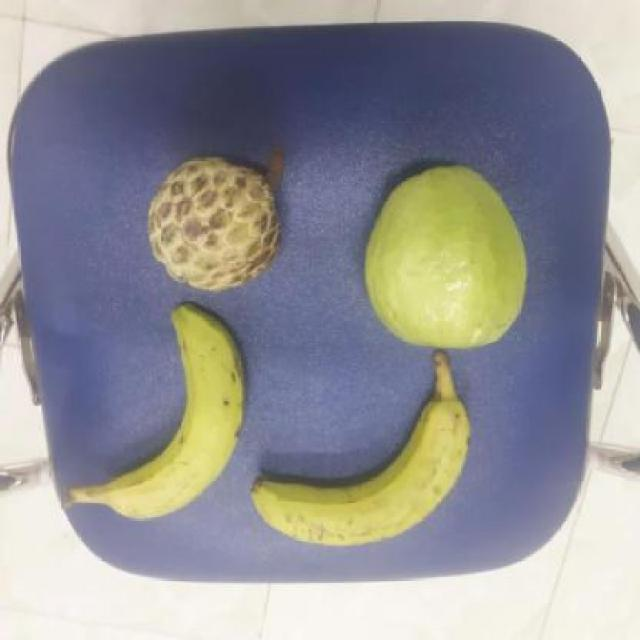banana: (88, 304, 254, 527), (246, 394, 480, 548)
guava: (362, 165, 532, 353)
sugar apple: (146, 156, 280, 295)
